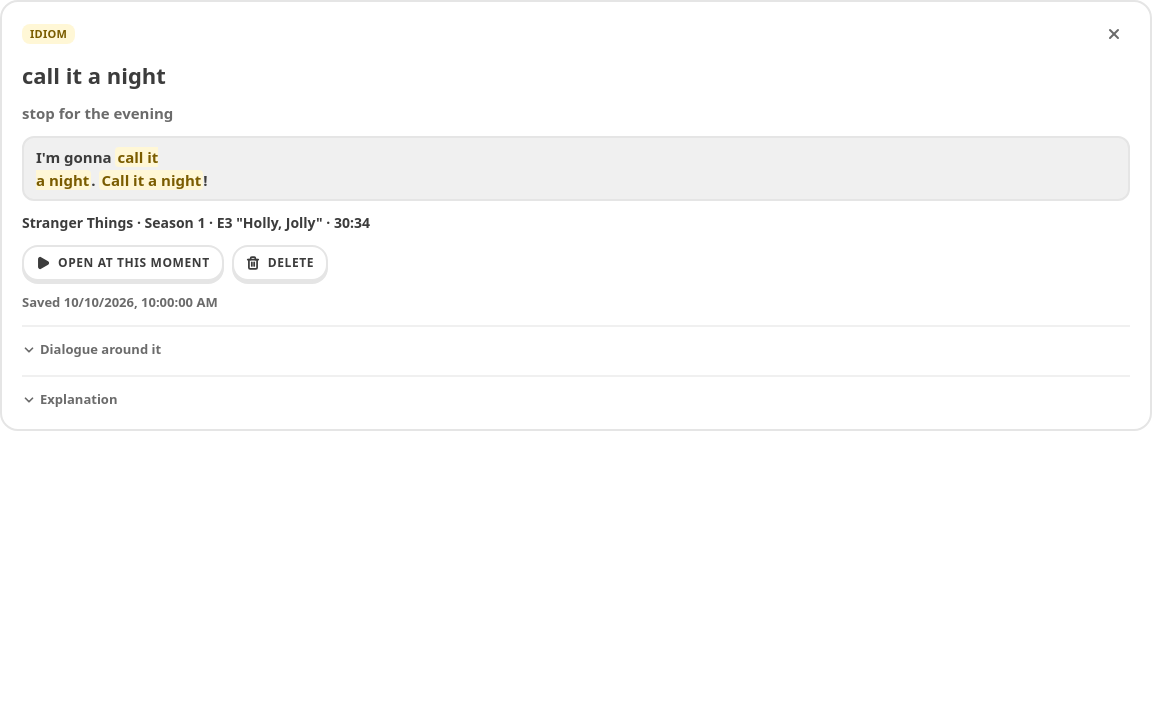
Scenario: StudyLogDetail › shows the dialogue around the line when expanded, with the line marked
Click the button "Dialogue around it" at (92, 350), box [22,340,161,359]
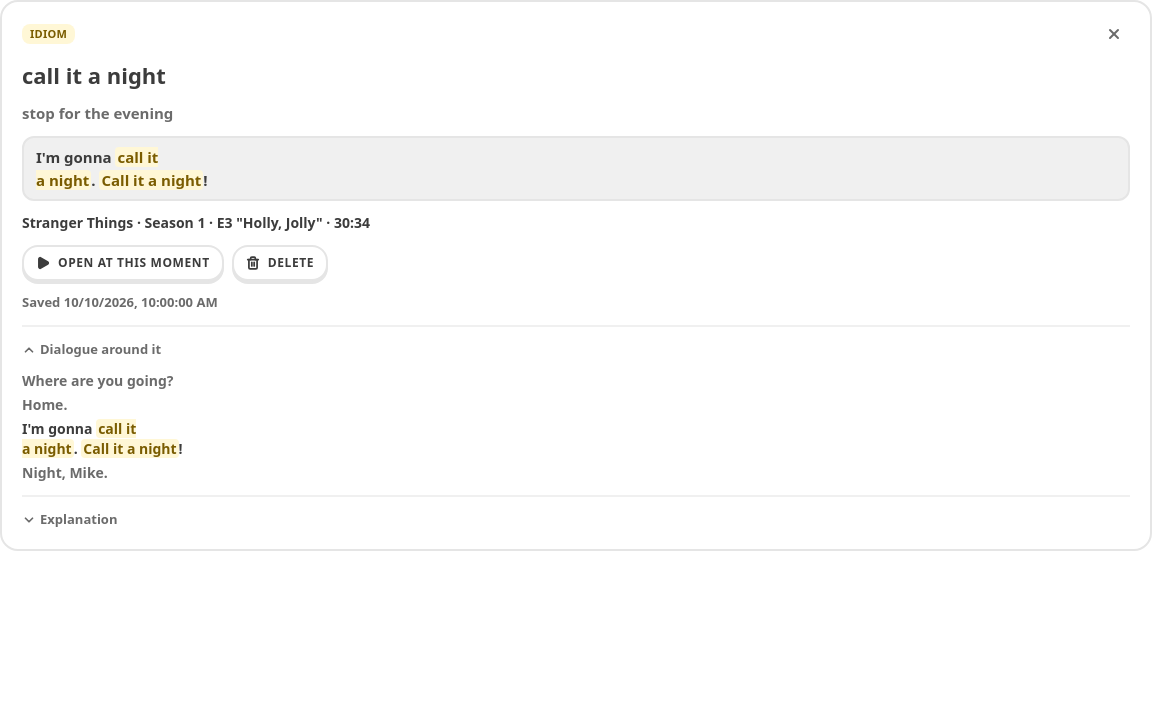
Now the button "Dialogue around it" is expanded, box [22,340,161,359]
